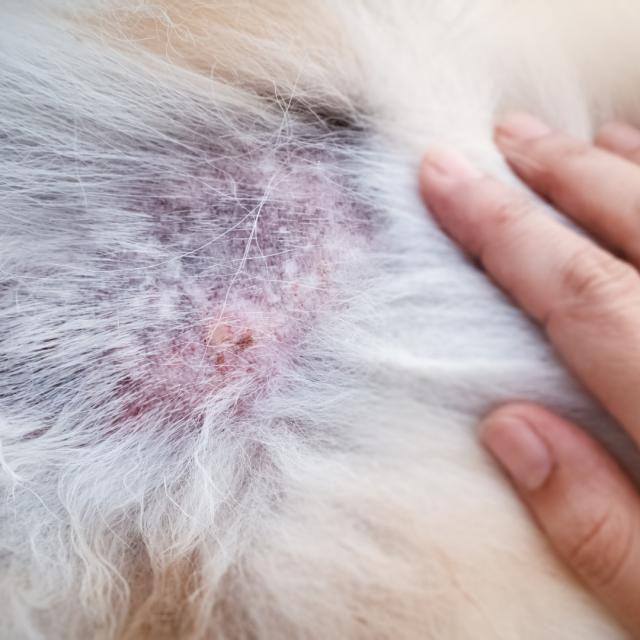allergic dermatitis: (48, 104, 356, 434)
